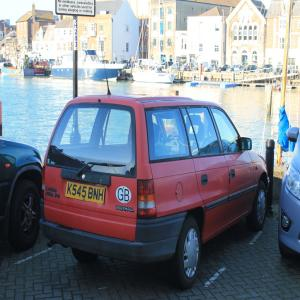Vehicle-registration-plate: (66, 183, 106, 205)
